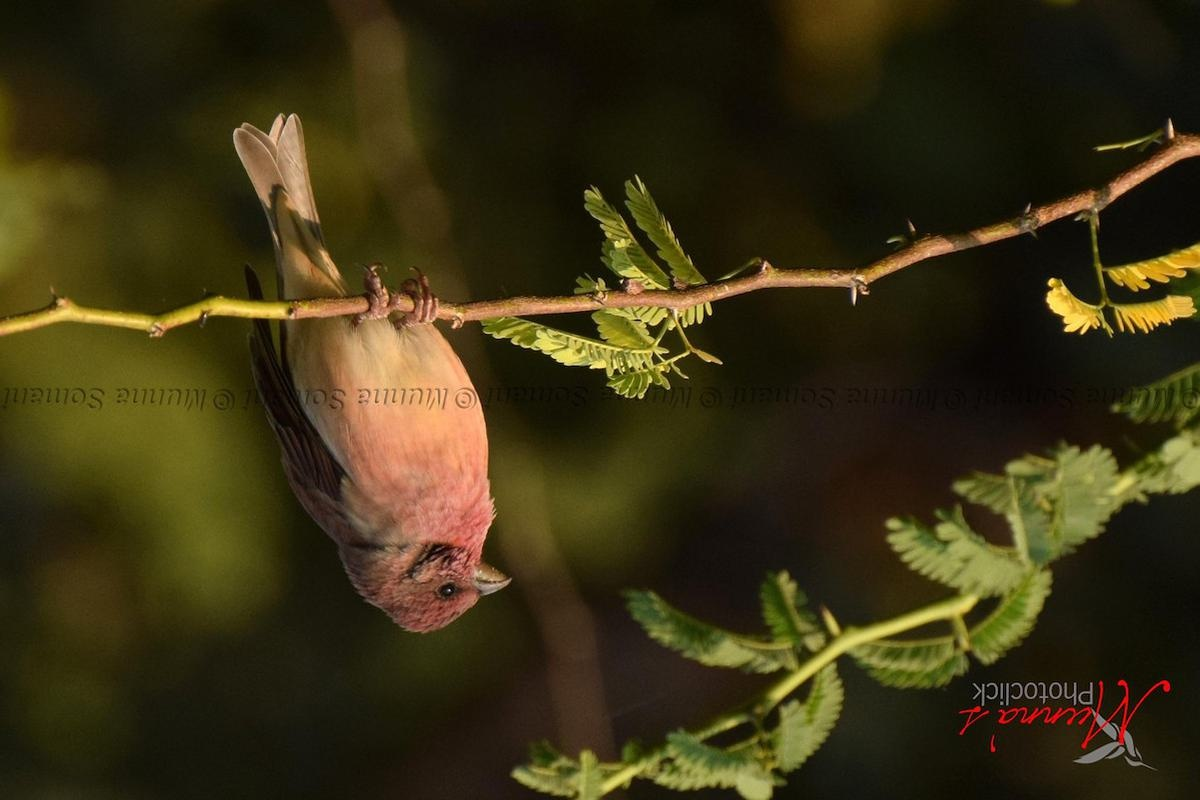rosefinch: (258, 184, 523, 615)
